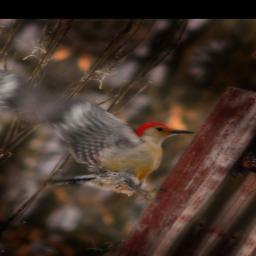Woodpecker: (0, 79, 197, 217)
